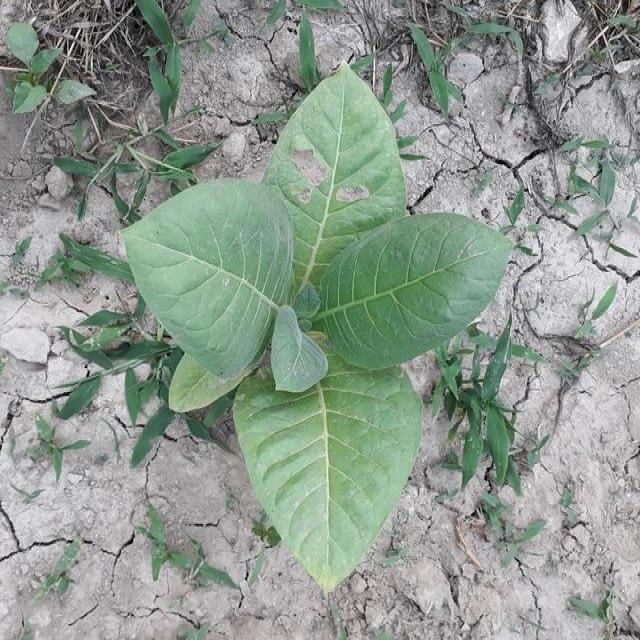crop: (112, 60, 515, 592)
